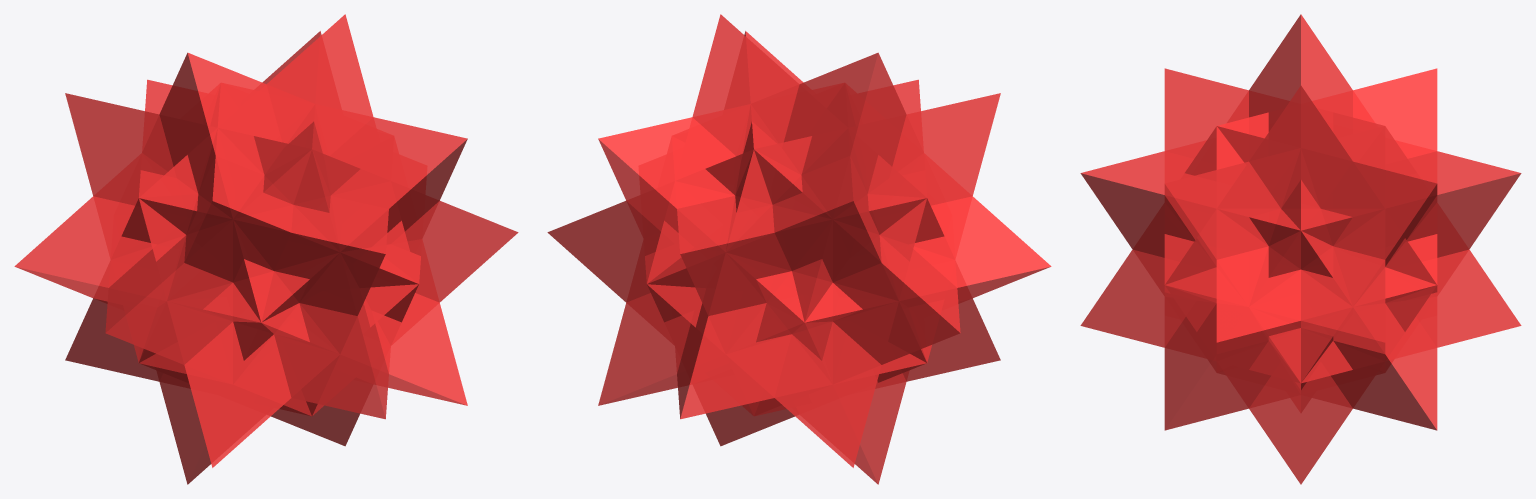
File: fractalgreatrhombictriacontahedron0.glb
The picture shows the model from 3 angles, left to right: view 1: azimuth 30°, elevation 25°; view 2: azimuth 150°, elevation 25°; view 3: azimuth 270°, elevation 25°; orthographic projection. The views are drawn at different scales.
Bounding box in the file's own units: 11.16 × 11.16 × 11.16.
